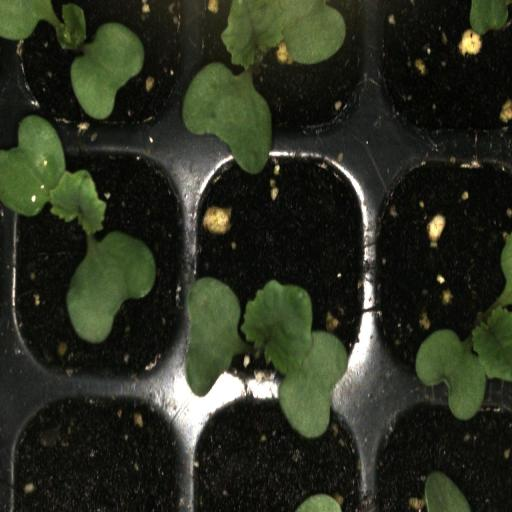seedling: (191, 145, 370, 393), (11, 151, 191, 384), (10, 0, 190, 146), (190, 0, 370, 145)
